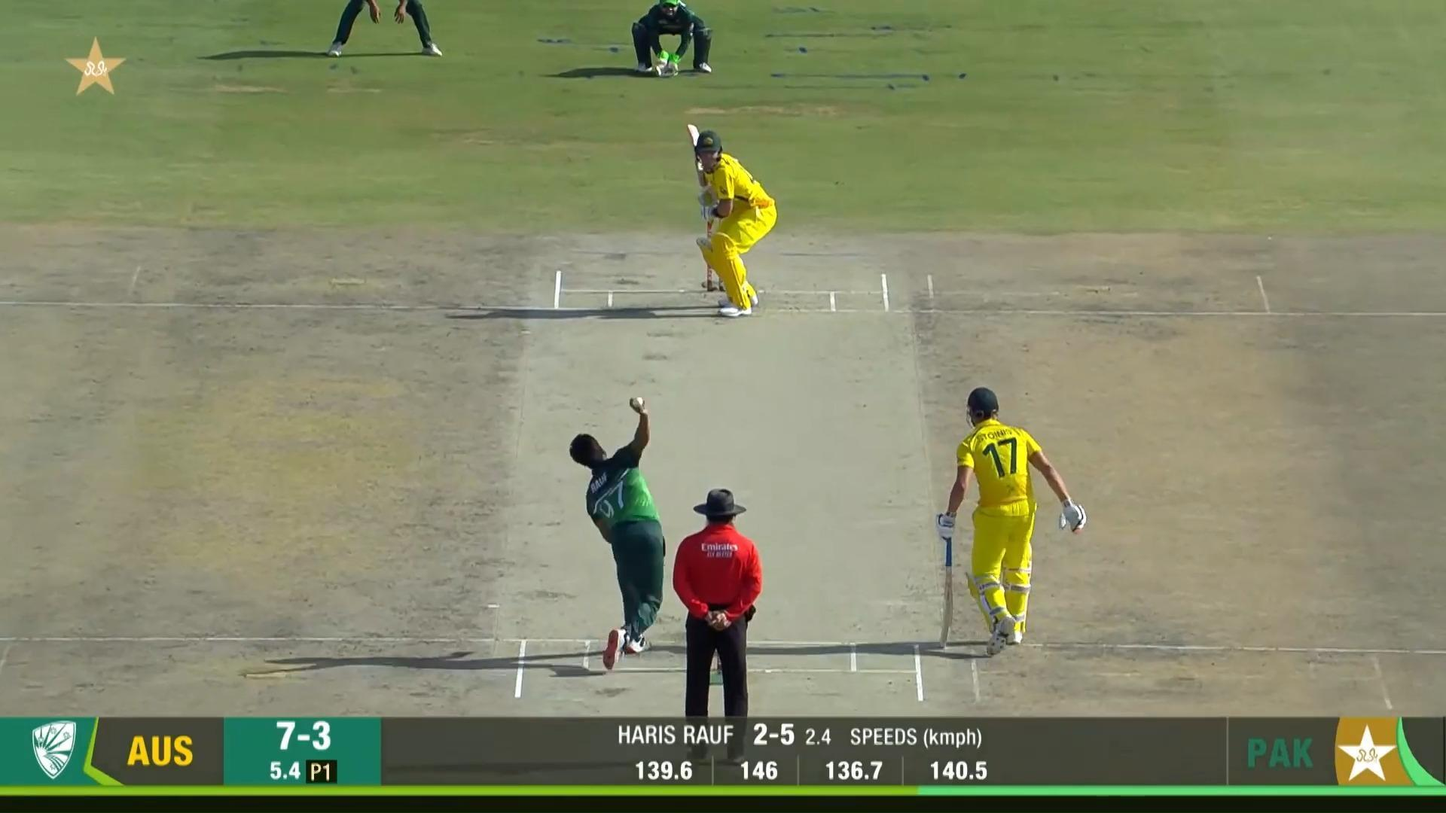BM 1: (689, 123, 778, 319)
BO: (565, 397, 668, 672)
